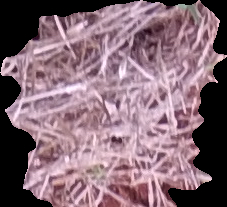soil: (1, 1, 224, 206)
